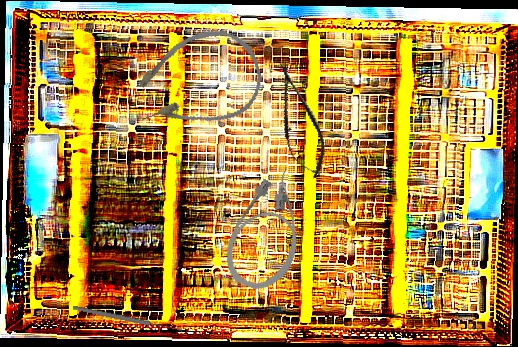Cannula: (122, 18, 271, 144), (215, 159, 326, 299)
Micro Scissor: (264, 57, 334, 184)
Surgical Spoon: (72, 304, 183, 334)
